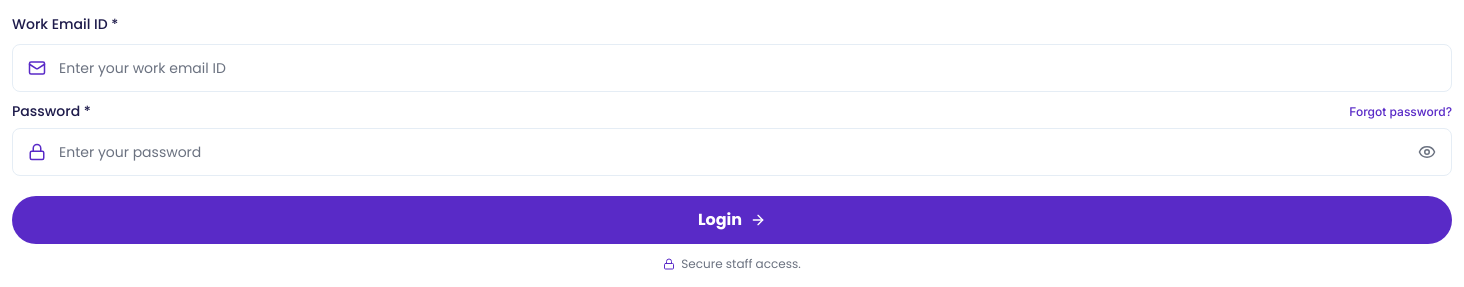
Test: CounselorSignInForm — password field › toggles visibility without affecting the entered value or submitting the form
Type "Str0ng!Pass" into the password field labelled "Password *" at (732, 152), box [12,128,1452,176]
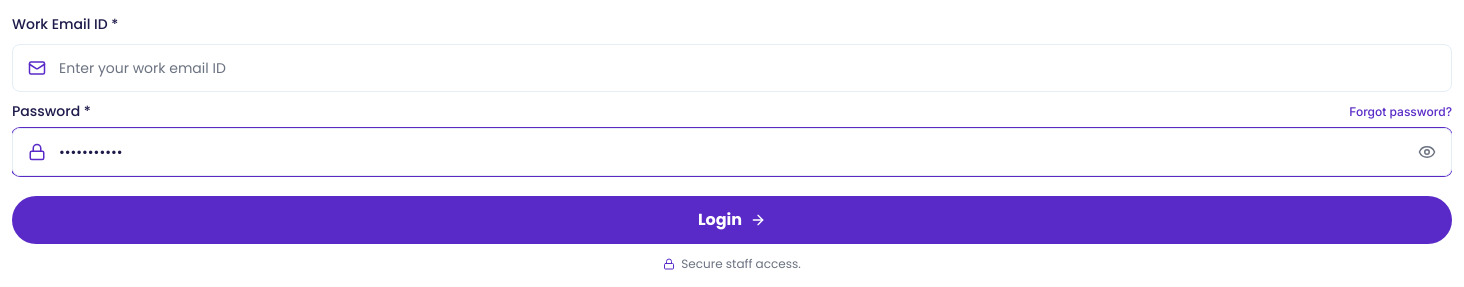
Click the button named "Show password" at (1427, 152), box [1418,143,1436,161]
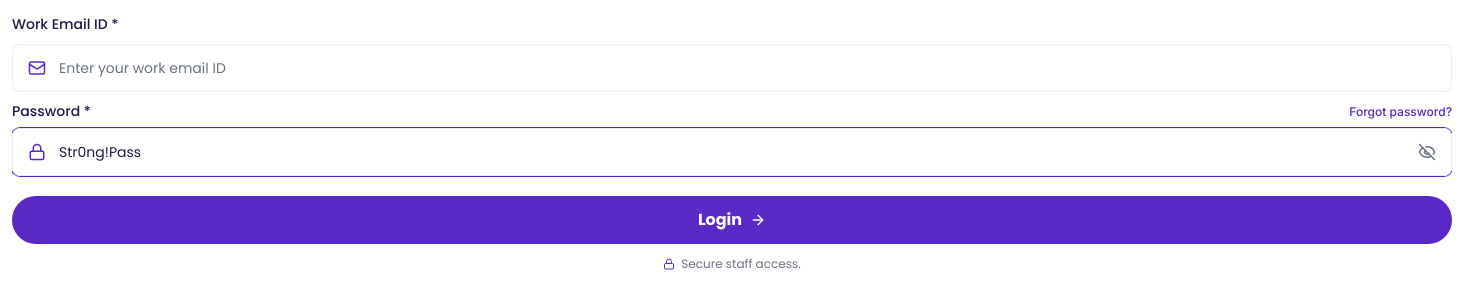
Expected: the field labelled "Password *" shows its text, [12,128,1452,176]
